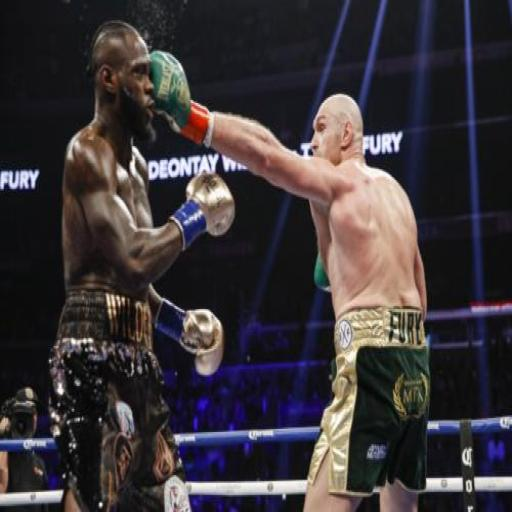boxing: (147, 46, 431, 511), (46, 17, 236, 510)
